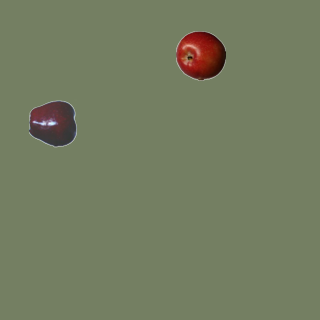Apple Braeburn: (175, 30, 225, 80)
Apple Red Delicious: (28, 98, 78, 148)
